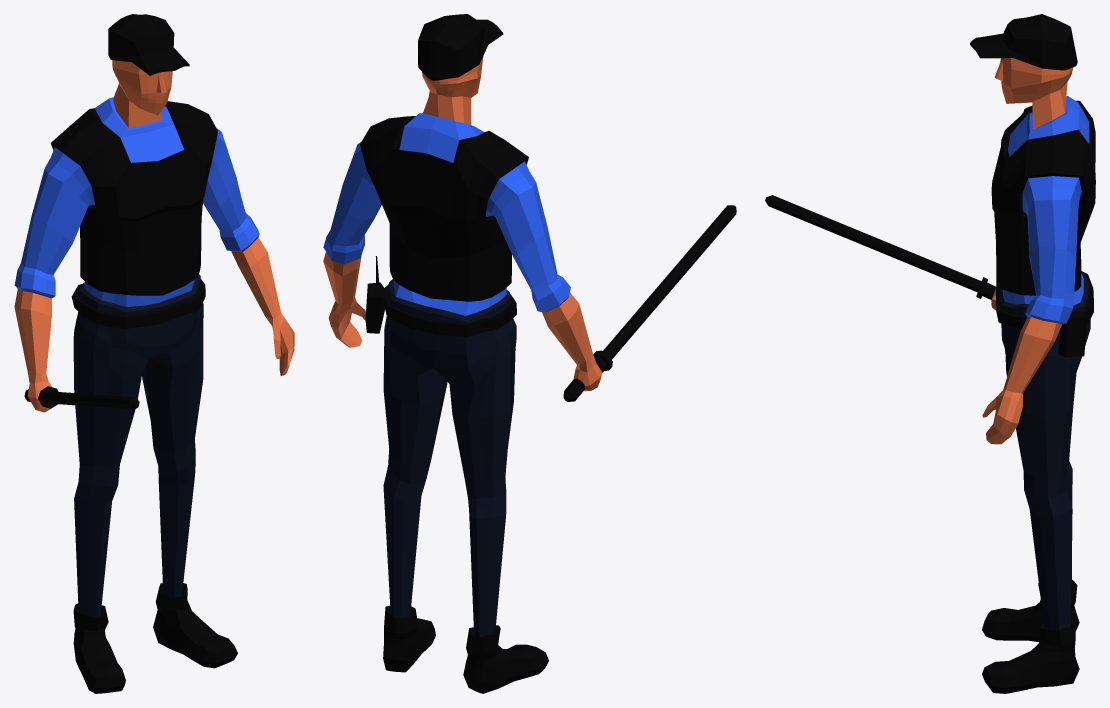
Rendered from Guard.obj.
The picture shows the model from 3 angles, left to right: view 1: azimuth 30°, elevation 25°; view 2: azimuth 150°, elevation 25°; view 3: azimuth 270°, elevation 25°; orthographic projection.
Visible parts, largest first — view 1: Body_Cube.001; view 2: Body_Cube.001; view 3: Body_Cube.001.
Part boxes in pixels (box(x1,y1,x2,y2)): Body_Cube.001: box(14, 14, 294, 693); Body_Cube.001: box(323, 14, 736, 693); Body_Cube.001: box(765, 14, 1095, 693).
Size of the model in its own units: 0.8314 by 1.81 by 0.8416.
